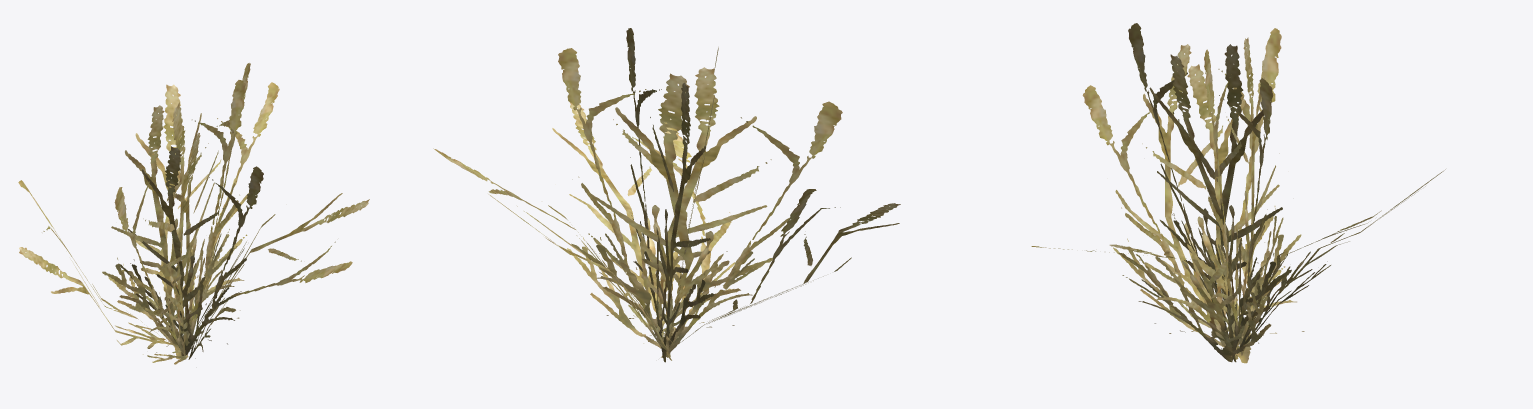
File: Foliage_Grass02.glb
3 renders of one model, left to right at view 1: azimuth 30°, elevation 25°; view 2: azimuth 150°, elevation 25°; view 3: azimuth 270°, elevation 25°, orthographic. The views are drawn at different scales.
Visible parts, largest first — view 1: FOLIAGE_GRASS02; view 2: FOLIAGE_GRASS02; view 3: FOLIAGE_GRASS02.
Boxes of the visible parts, x1=… form: FOLIAGE_GRASS02: x1=18, y1=63, x2=369, y2=364; FOLIAGE_GRASS02: x1=433, y1=28, x2=900, y2=362; FOLIAGE_GRASS02: x1=1031, y1=23, x2=1445, y2=363.
Size of the model in its own units: 0.609 by 0.407 by 0.521.
1 material, 1 textured.
